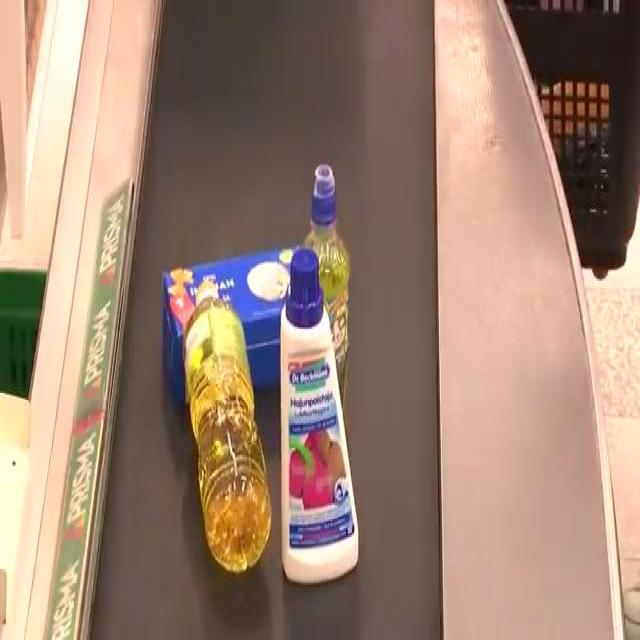beverage: (181, 299, 272, 567)
utility-box: (160, 238, 316, 412), (291, 285, 347, 577), (308, 188, 352, 372)
